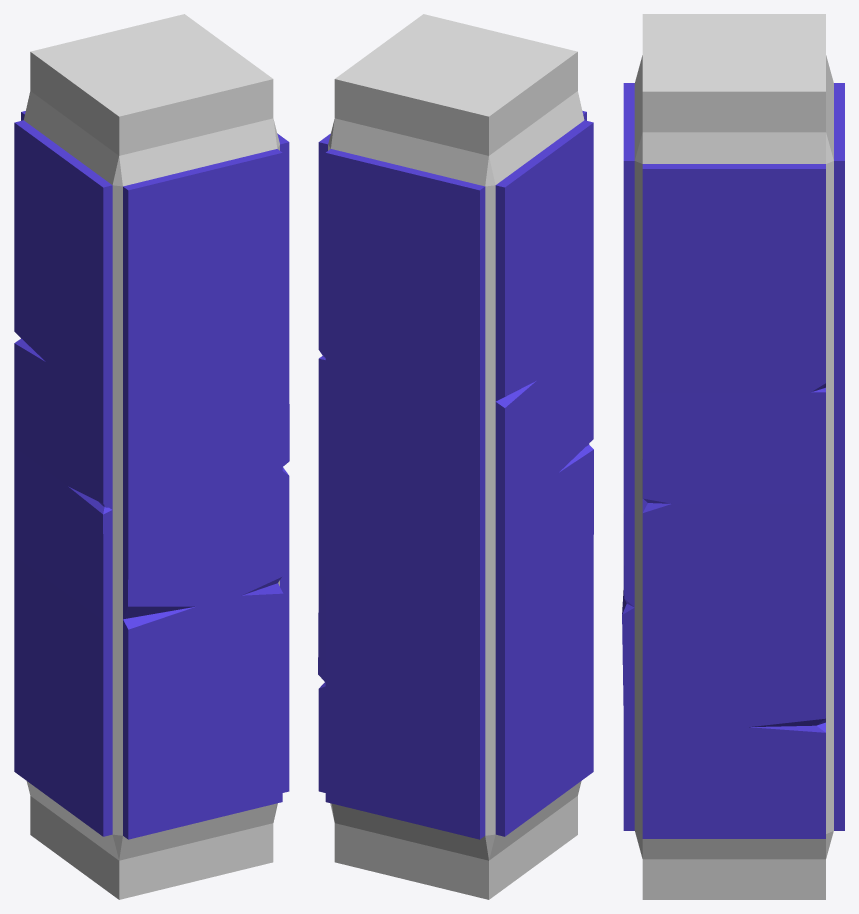
File: Column concrete 8x2x2.fbx
The picture shows the model from 3 angles, left to right: view 1: azimuth 30°, elevation 25°; view 2: azimuth 150°, elevation 25°; view 3: azimuth 270°, elevation 25°; orthographic projection. The views are drawn at different scales.
Parts seen in each view (by area): view 1: Column Concrete 8x2x2; view 2: Column Concrete 8x2x2; view 3: Column Concrete 8x2x2.
Part boxes in pixels (x1,y1,x2,y2): Column Concrete 8x2x2: (14, 14, 289, 899); Column Concrete 8x2x2: (318, 14, 593, 899); Column Concrete 8x2x2: (622, 14, 844, 899).
Size of the model in its own units: 2 by 8 by 2.
